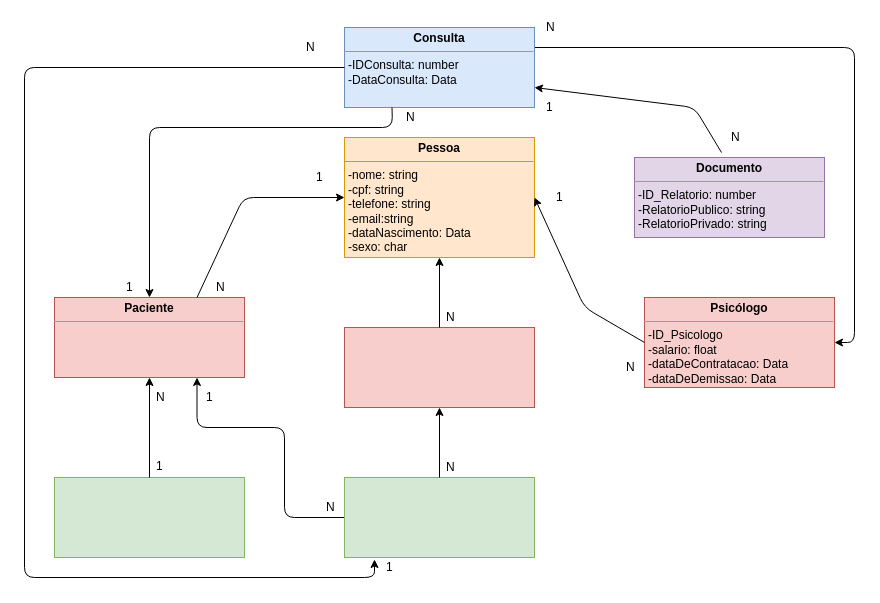
The diagram is 880 pixels wide and 603 high, and some of its shapes have lost their labels. Here are the shapes that lost their labels. From the top down, the centre of each, then its label:
point 439,367: Atendente -dataDeContratacao: Data -dataDeDemissao: Data
point 149,517: Convenio -IDPlano: number -TipoPlano: string -descricaoPlano: string
point 439,517: Agendamento -dataAgendamento: Data -hora: string
